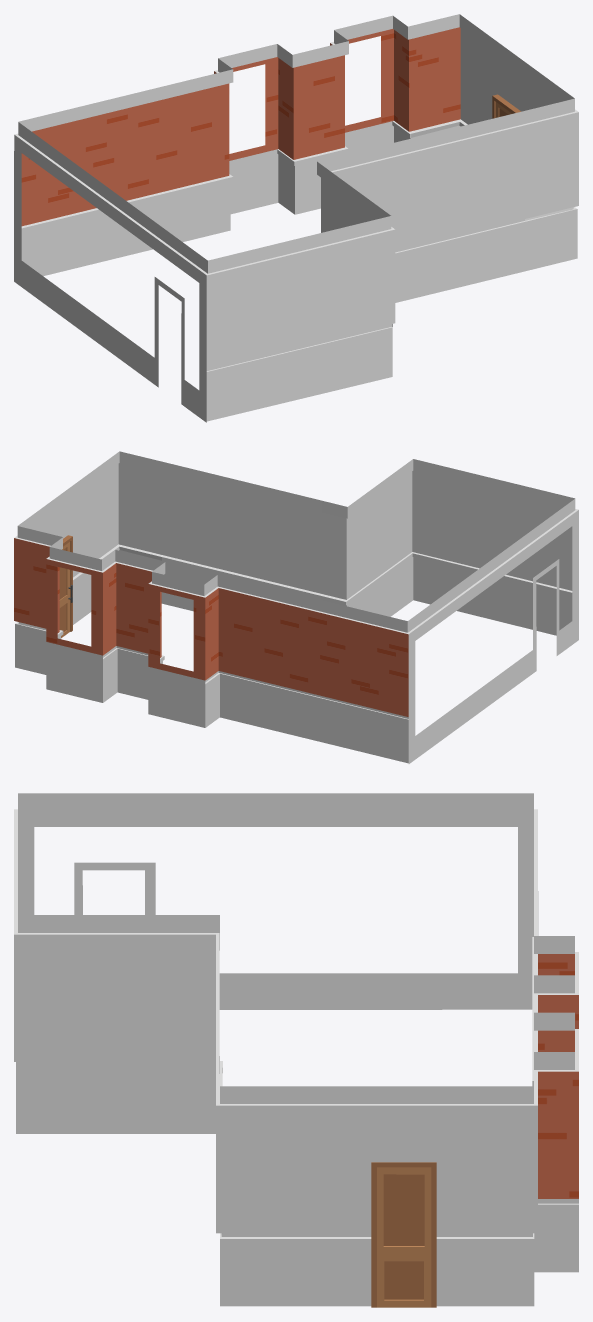
File: EDITED_Caffe_Door_2.fbx
The picture shows the model from 3 angles, top to bottom: view 1: azimuth 30°, elevation 25°; view 2: azimuth 150°, elevation 25°; view 3: azimuth 270°, elevation 25°; orthographic projection. The views are drawn at different scales.
Parts seen in each view (by area): view 1: Wall, Wall_for_Door; view 2: Wall, Wall_for_Door, Door_1; view 3: Wall, Wall_for_Door, Door_1, Door_Frame_1.
Boxes of the visible parts, x1,y1,x2,y2 form: Wall: [14, 14, 578, 422]; Wall_for_Door: [459, 28, 576, 209]; Wall: [14, 451, 578, 763]; Wall_for_Door: [15, 464, 119, 624]; Door_1: [59, 542, 72, 638]; Wall: [14, 793, 578, 1272]; Wall_for_Door: [216, 1105, 537, 1306]; Door_1: [377, 1167, 431, 1307]; Door_Frame_1: [371, 1162, 436, 1307].
Bounding box in the file's own units: 35.38 × 12.21 × 28.48.
